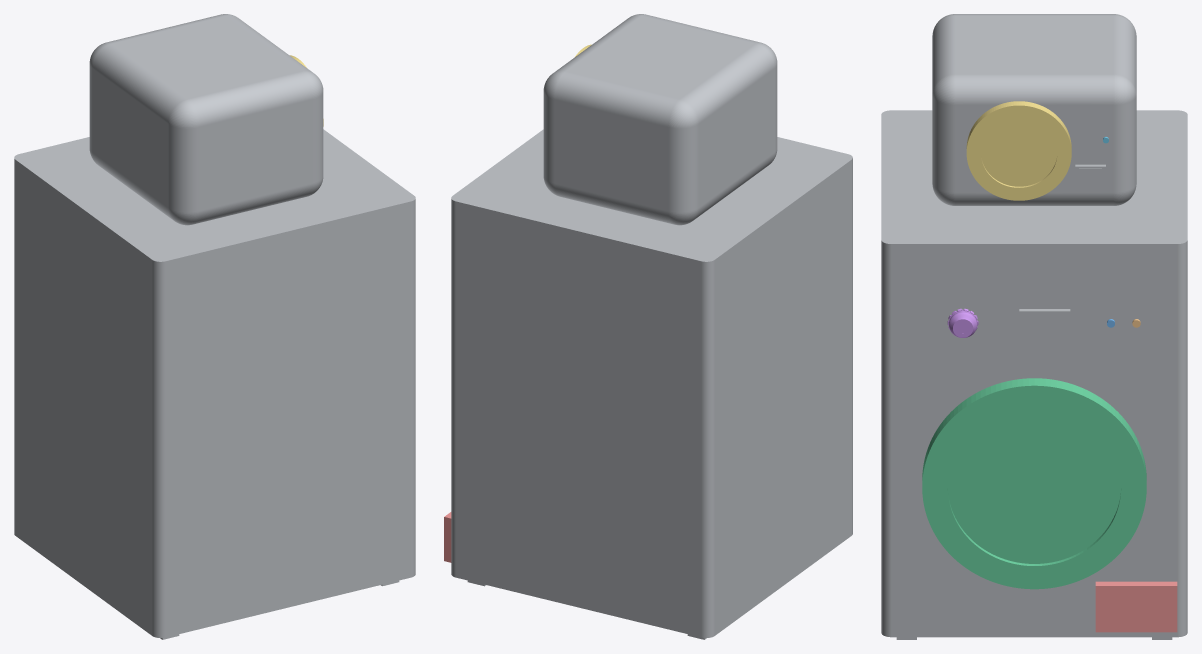
The model's file is parts.glb.
3 renders of one model, left to right at view 1: azimuth 30°, elevation 25°; view 2: azimuth 150°, elevation 25°; view 3: azimuth 270°, elevation 25°, orthographic. The views are drawn at different scales.
Visible parts, largest first — view 1: visual_0_0; view 2: visual_0_0; view 3: visual_0_0, visual_3_0, visual_7_0, visual_5_0, visual_4_0.
Part boxes in pixels (box(x1,y1,x2,y2)): visual_0_0: box(14, 14, 415, 639); visual_0_0: box(451, 14, 852, 639); visual_0_0: box(881, 14, 1187, 639); visual_3_0: box(922, 378, 1146, 589); visual_7_0: box(966, 101, 1071, 200); visual_5_0: box(1095, 581, 1177, 632); visual_4_0: box(947, 308, 978, 337).
Bounding box in the file's own units: 0.655 × 1.15 × 0.6.
